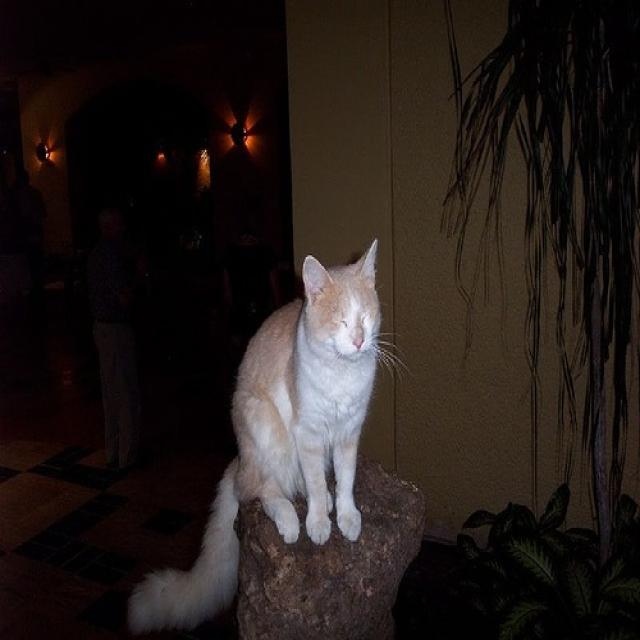cat: (232, 234, 387, 551)
pottedplant: (453, 5, 640, 640)
